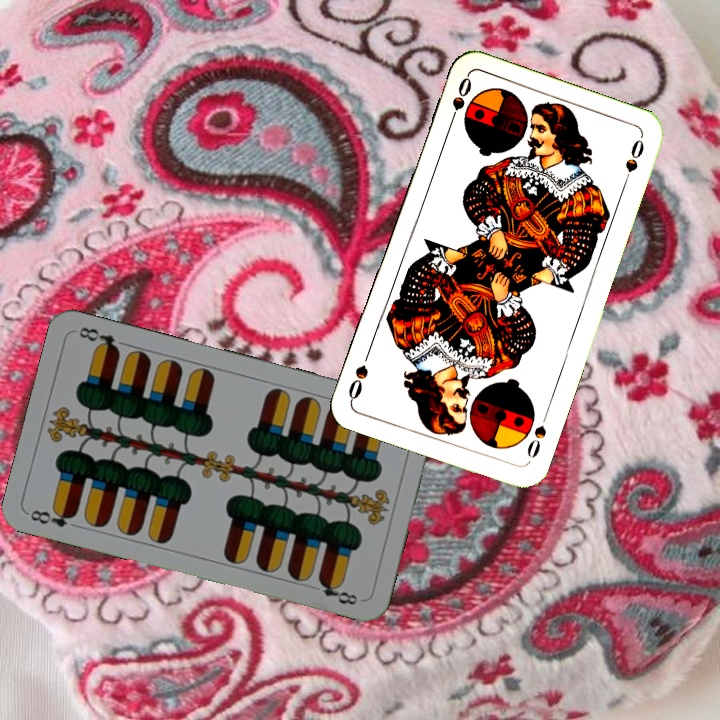E8: (26, 503, 80, 530)
SO: (444, 73, 474, 130), (523, 421, 549, 465)
